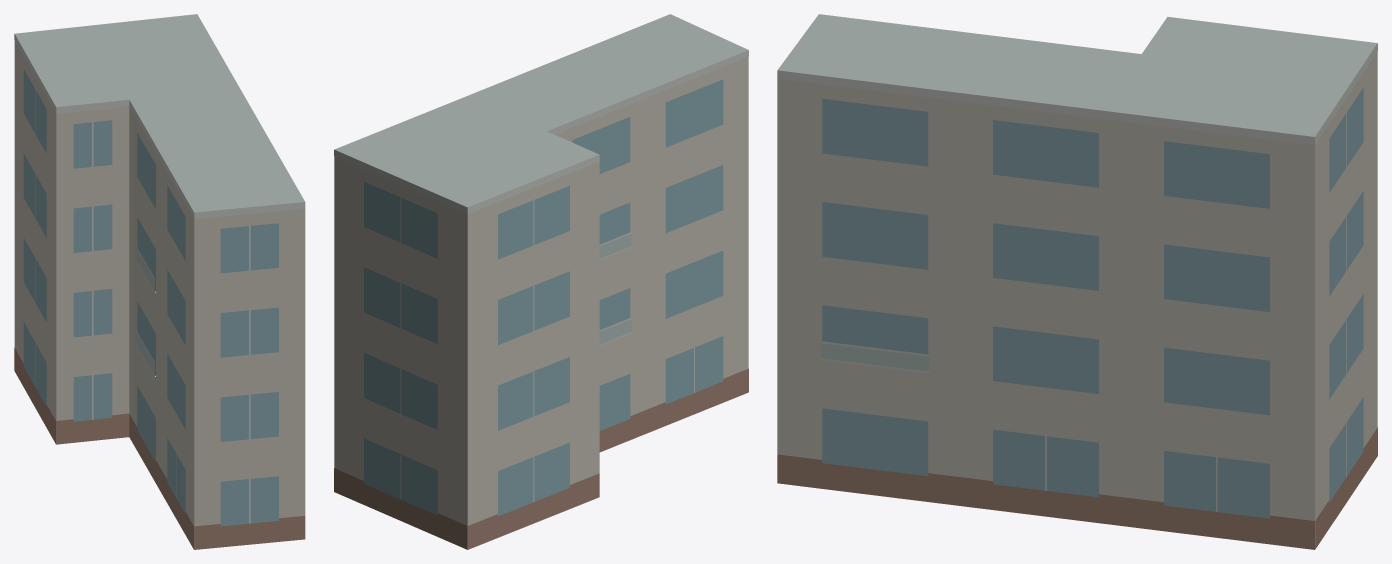
Rendered from survey-upis-32817874.glb.
3 renders of one model, left to right at view 1: azimuth 30°, elevation 25°; view 2: azimuth 150°, elevation 25°; view 3: azimuth 270°, elevation 25°, orthographic. The views are drawn at different scales.
Visible parts, largest first — view 1: survey-upis-32817874.tmp; view 2: survey-upis-32817874.tmp; view 3: survey-upis-32817874.tmp.
Part boxes in pixels (left/top/right/bottom): survey-upis-32817874.tmp: left=14, top=14, right=305, bottom=549; survey-upis-32817874.tmp: left=334, top=14, right=748, bottom=549; survey-upis-32817874.tmp: left=777, top=14, right=1377, bottom=549.
Bounding box in the file's own units: 7.8 × 12.2 × 16.09.
